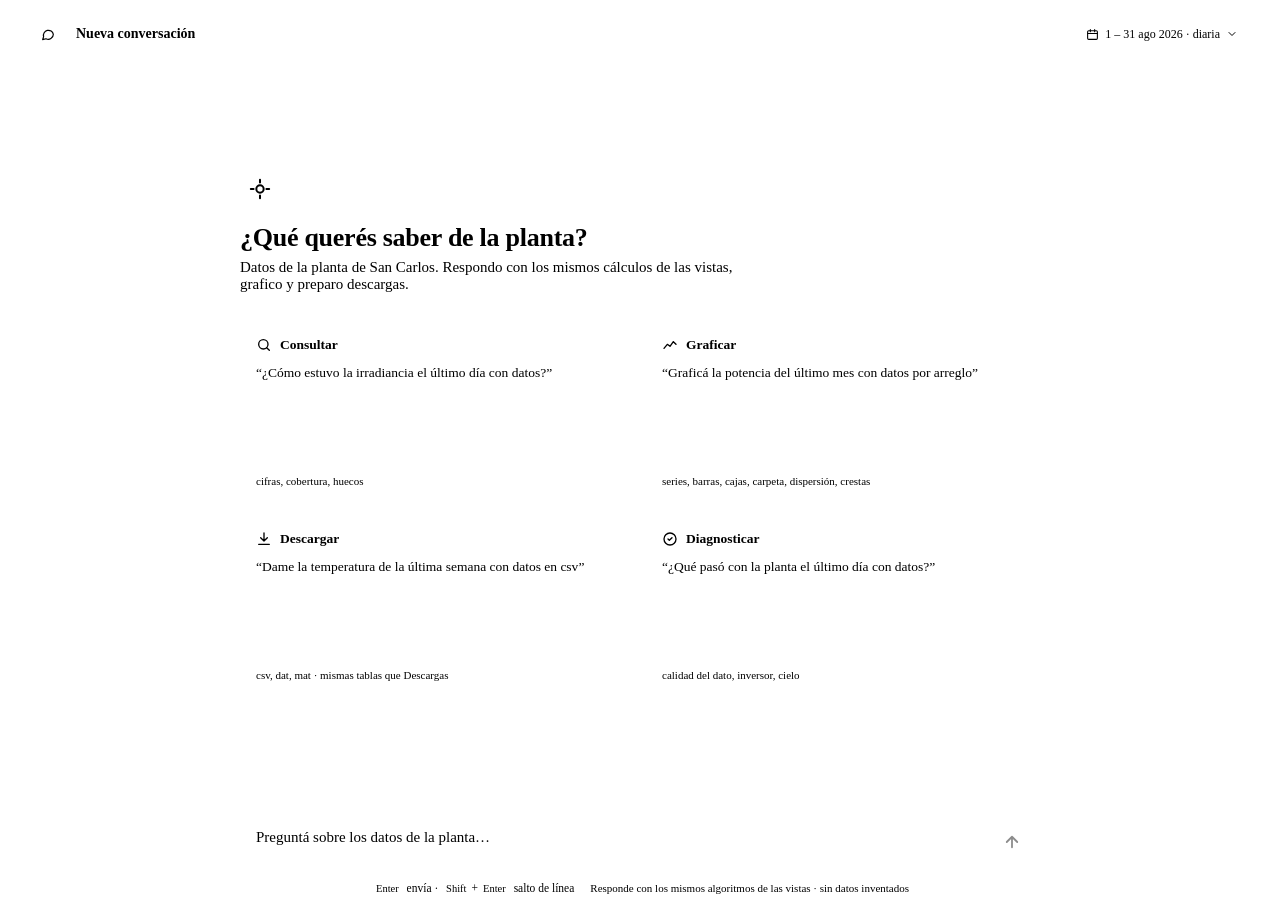
Test: AssistantView › mientras corre lista la tool en curso con «Detener», y Detener corta la respuesta
The image size is (1280, 900).
What coordinates should you click on to do the following:
click the button "Graficá la potencia del último mes con datos por arreglo"
I would click on:
 (843, 373)
Its box is [662,363,1024,383].
(page scrolled)
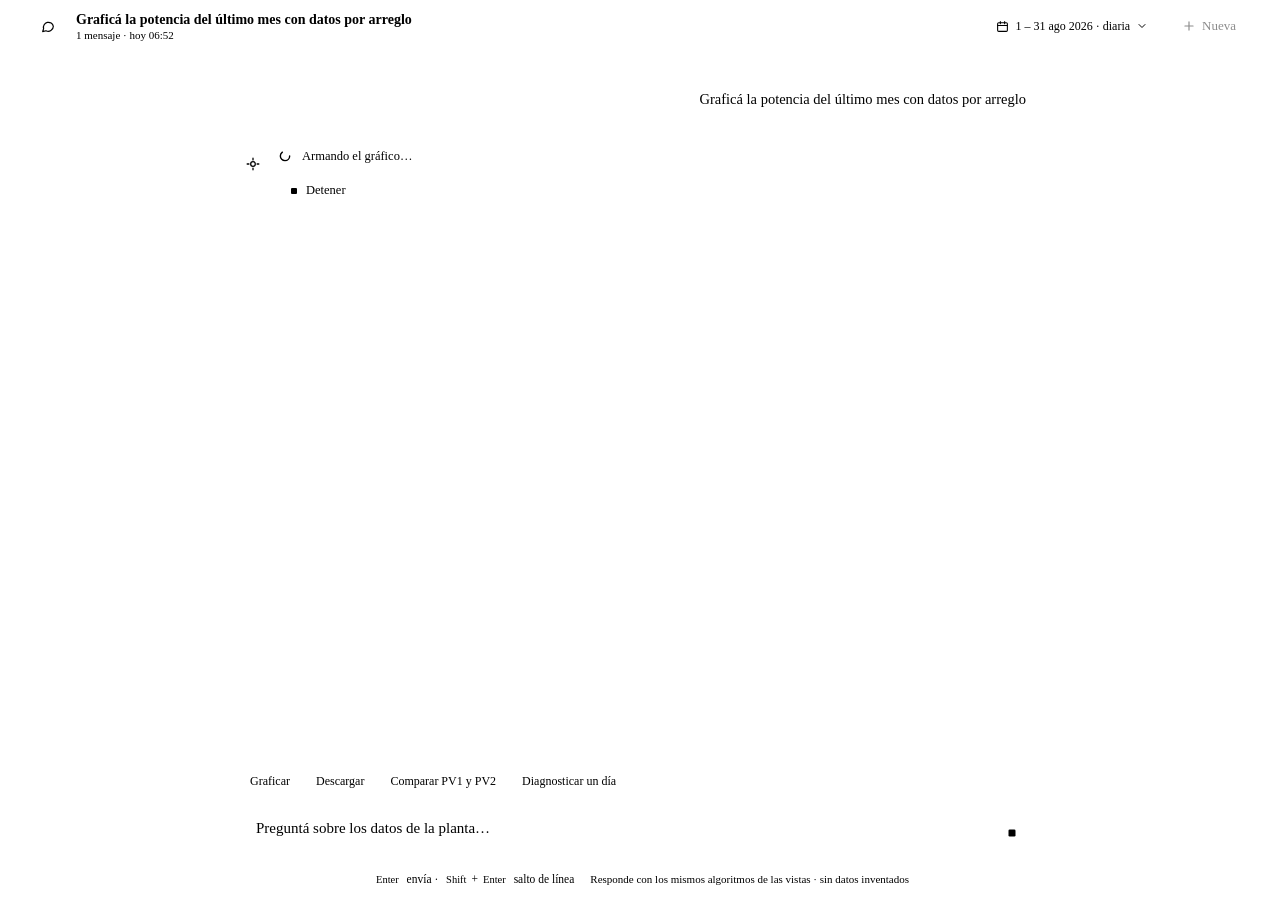
expect the text "Armando el gráfico…" is shown: met, box [302,149,412,164]
// When se pulsa Detener
What coordinates should you click on to do the following:
click the button "Detener"
I would click on:
 (317, 191)
Its box is [278,176,356,206].
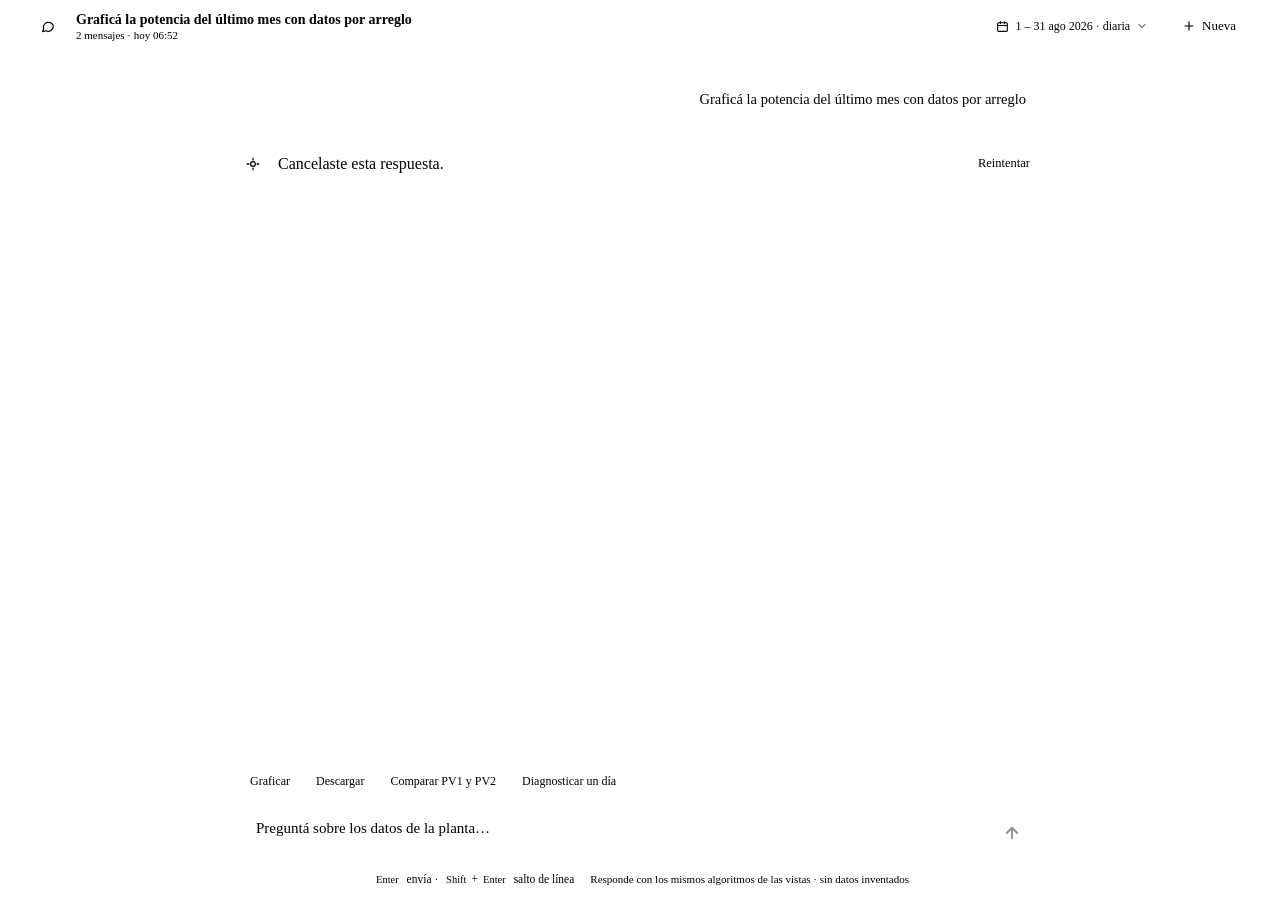
expect the message reads "Cancelaste esta respuesta.": met, box [278,155,444,172]
